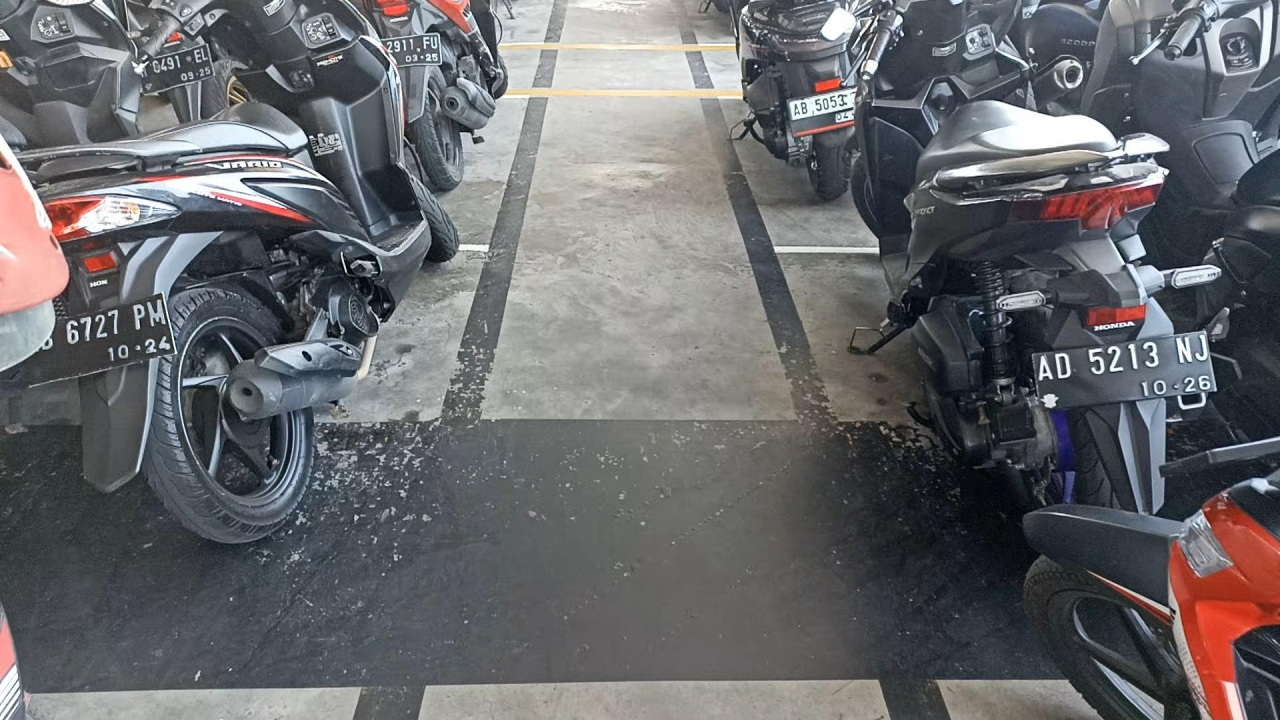plate: (1032, 332, 1216, 412)
